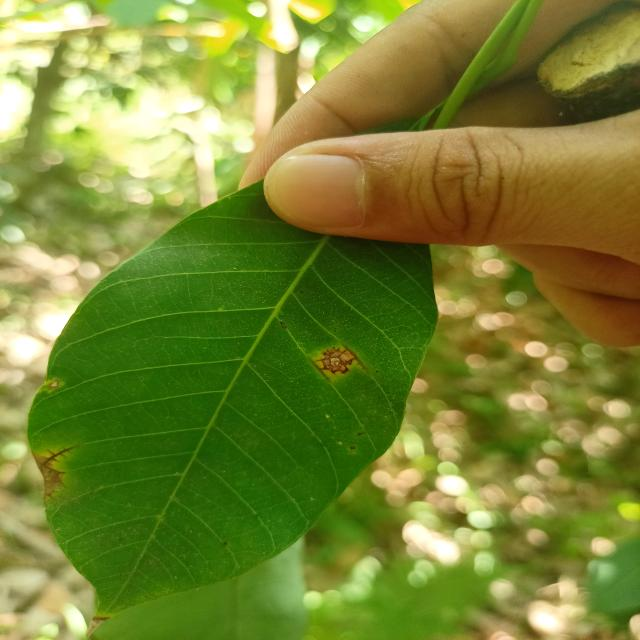Colletotrichum: (350, 447, 355, 449), (357, 433, 361, 435)
Corynespora: (308, 340, 369, 382), (45, 446, 75, 462)
Leaf-Blight: (32, 452, 64, 496)
